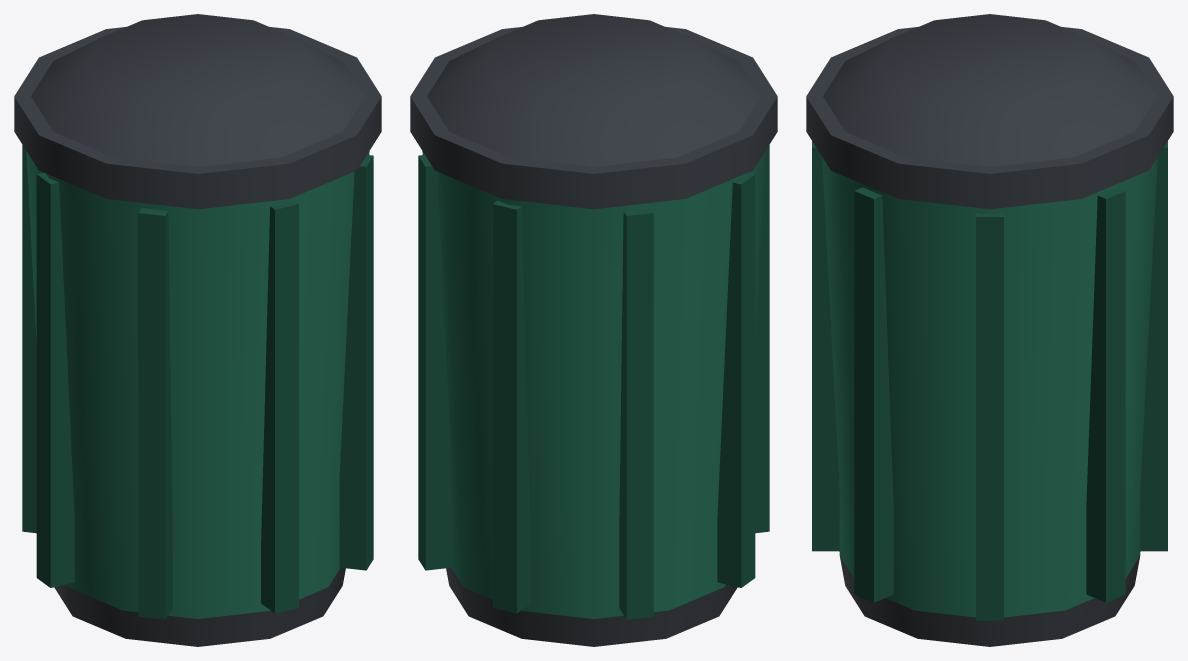
File: bin.glb
3 renders of one model, left to right at view 1: azimuth 30°, elevation 25°; view 2: azimuth 150°, elevation 25°; view 3: azimuth 270°, elevation 25°, orthographic.
Visible parts, largest first — view 1: PROP_bin; view 2: PROP_bin; view 3: PROP_bin.
Boxes of the visible parts, <box> form: PROP_bin: <box>14,14,381,646</box>; PROP_bin: <box>410,14,777,646</box>; PROP_bin: <box>806,14,1173,646</box>.
Size of the model in its own units: 0.66 by 1.04 by 0.66.
